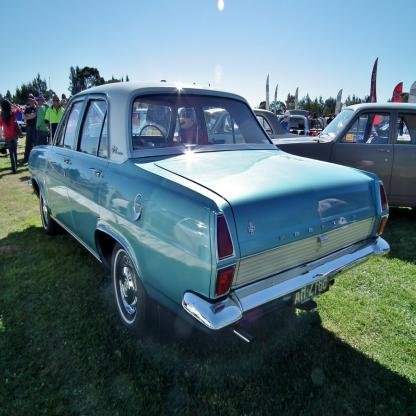Car: (0, 77, 416, 348)
